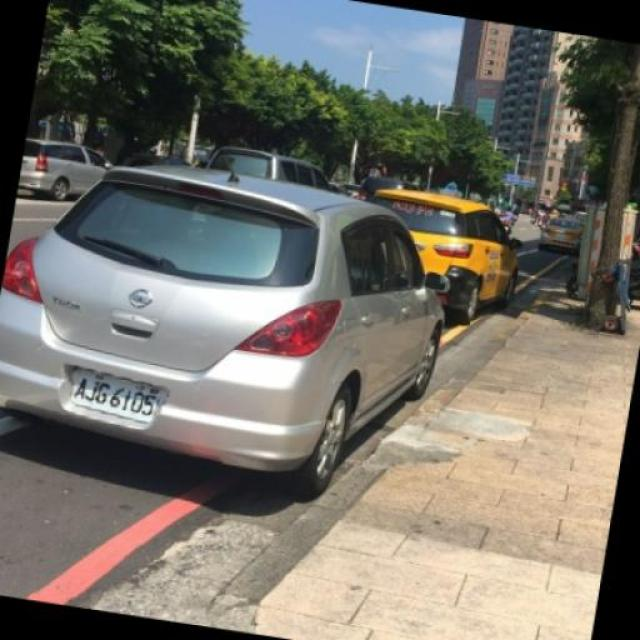Legalparking: (0, 170, 549, 536)
